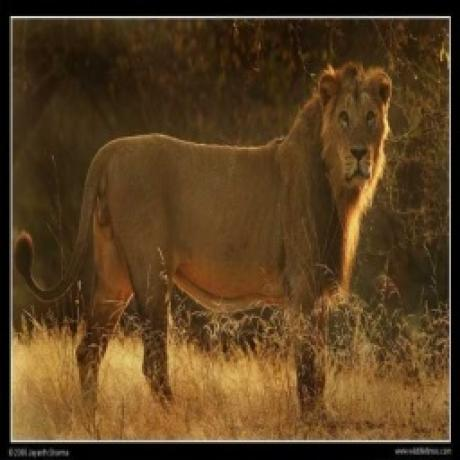Lion: (12, 66, 394, 417)
